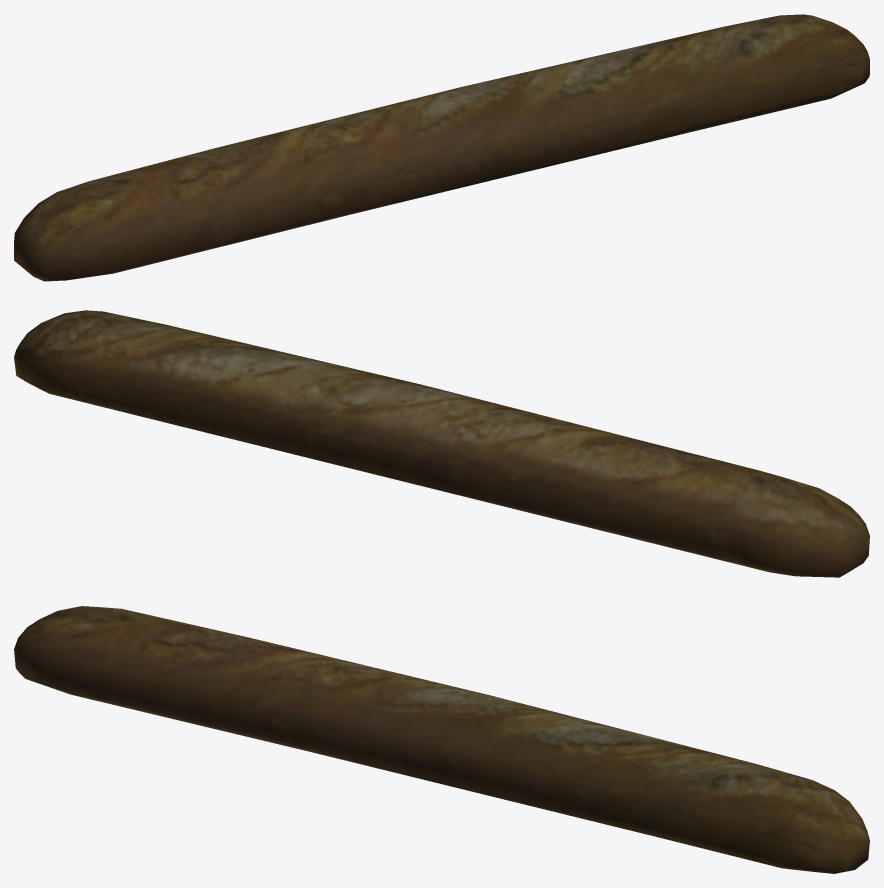
The model's file is melee_stale_baguette_mx_1.obj.
The picture shows the model from 3 angles, top to bottom: view 1: azimuth 30°, elevation 25°; view 2: azimuth 150°, elevation 25°; view 3: azimuth 330°, elevation 25°; orthographic projection.
Parts seen in each view (by area): view 1: melee_stale_baguette_mx_1; view 2: melee_stale_baguette_mx_1; view 3: melee_stale_baguette_mx_1.
Boxes of the visible parts, x1,y1,x2,y2 form: melee_stale_baguette_mx_1: [14, 14, 869, 281]; melee_stale_baguette_mx_1: [14, 310, 869, 577]; melee_stale_baguette_mx_1: [14, 606, 869, 873].
Size of the model in its own units: 0.7769 by 0.0678 by 0.093.
